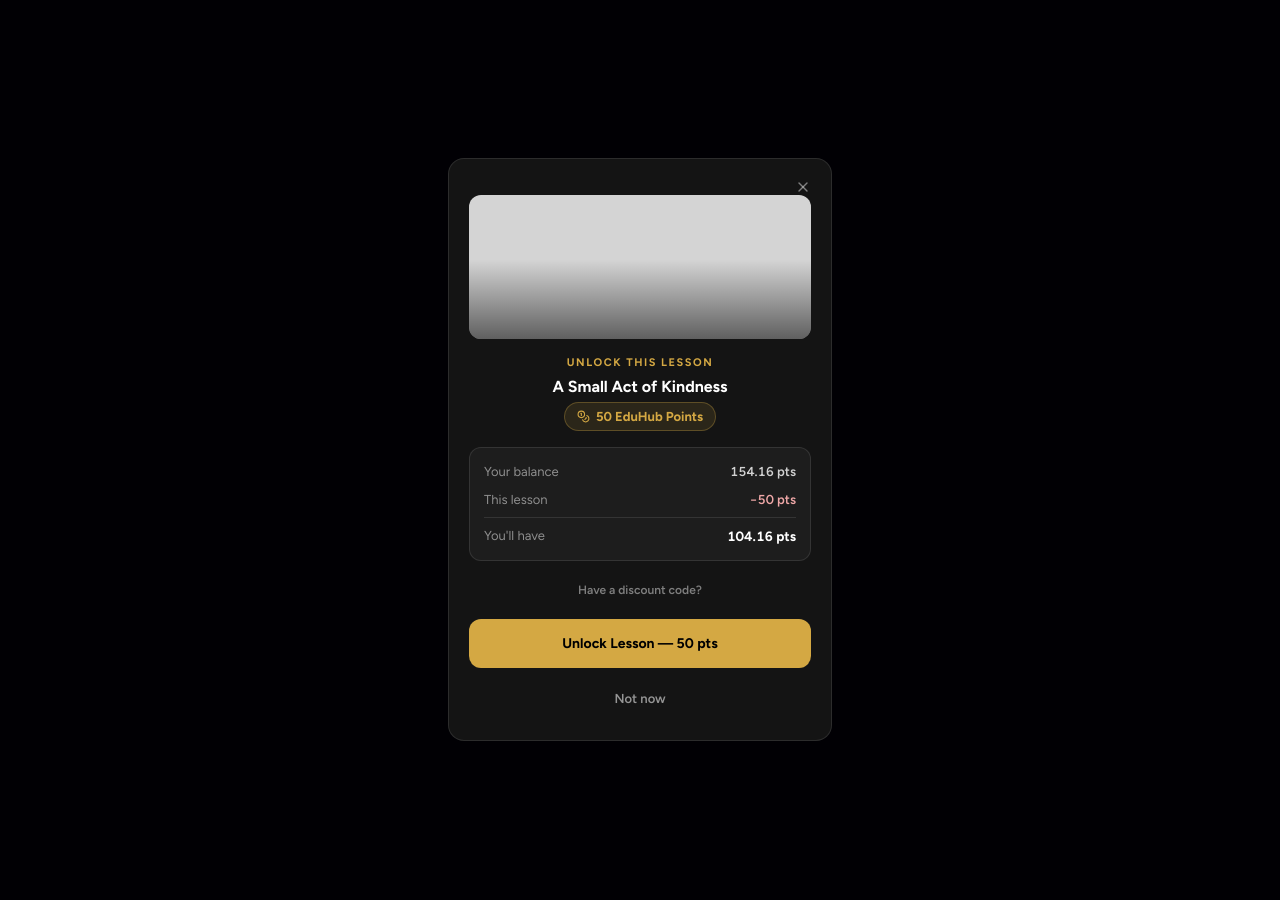
Scenario: already-owned lesson: honest dedicated state (no retry, no fake success) with a direct path into the lesson
The width and height of the screenshot is (1280, 900).
Later steps or results of the test are not shown.
Click the button with test id "video-purchase-confirm-button" at (640, 644), box [469, 620, 811, 669]
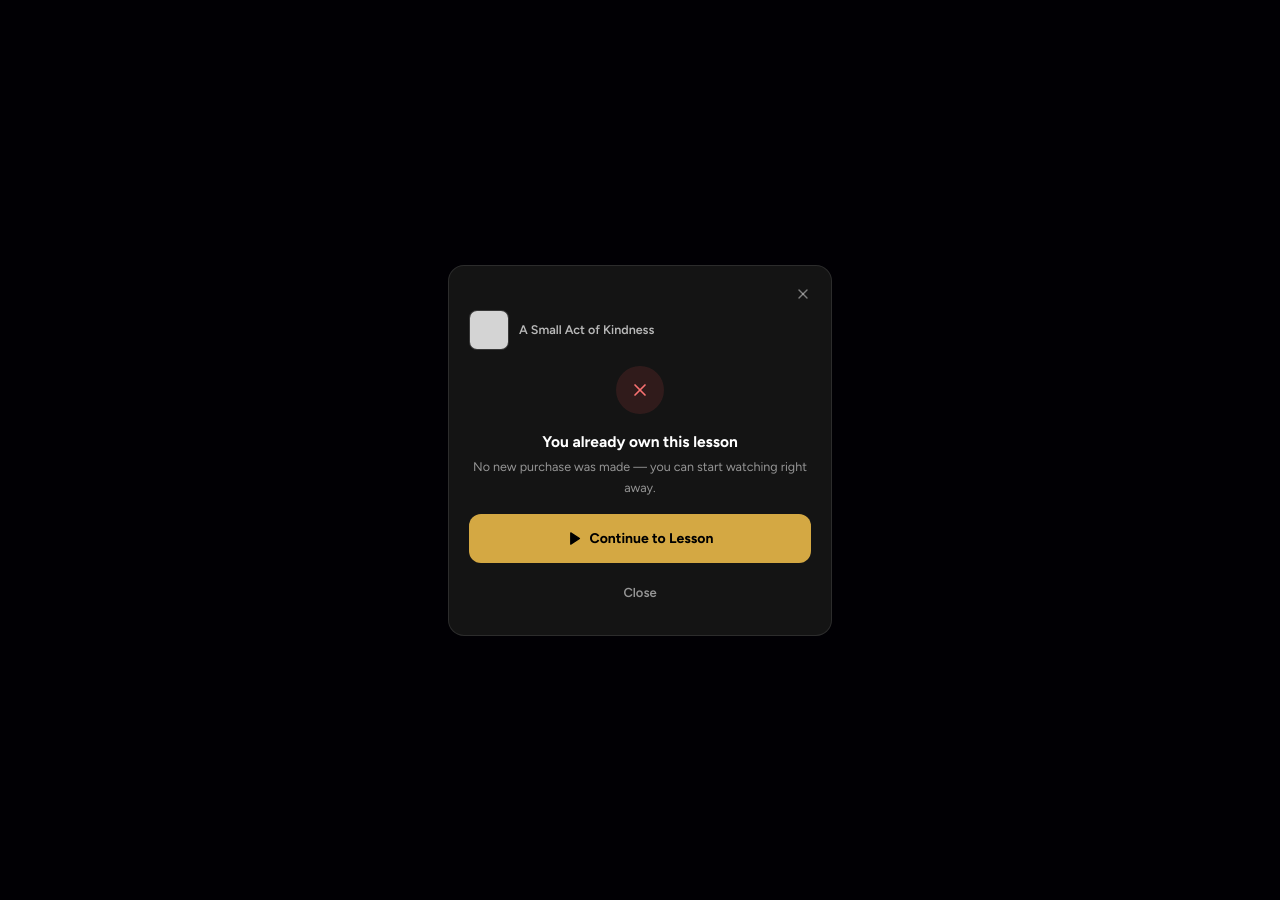
Result: the element with test id "video-purchase-error" is shown at [469, 302, 811, 614]
Result: the heading "You already own this lesson" is shown at [542, 432, 738, 451]
